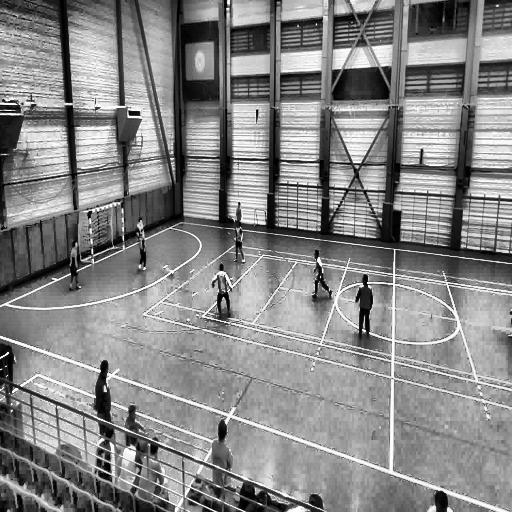ball: (168, 267, 176, 280)
player: (93, 362, 111, 433), (213, 262, 233, 318), (311, 249, 333, 299), (356, 274, 372, 339), (70, 240, 82, 290), (234, 219, 245, 263), (136, 228, 147, 272), (234, 198, 244, 225), (136, 217, 146, 242)
